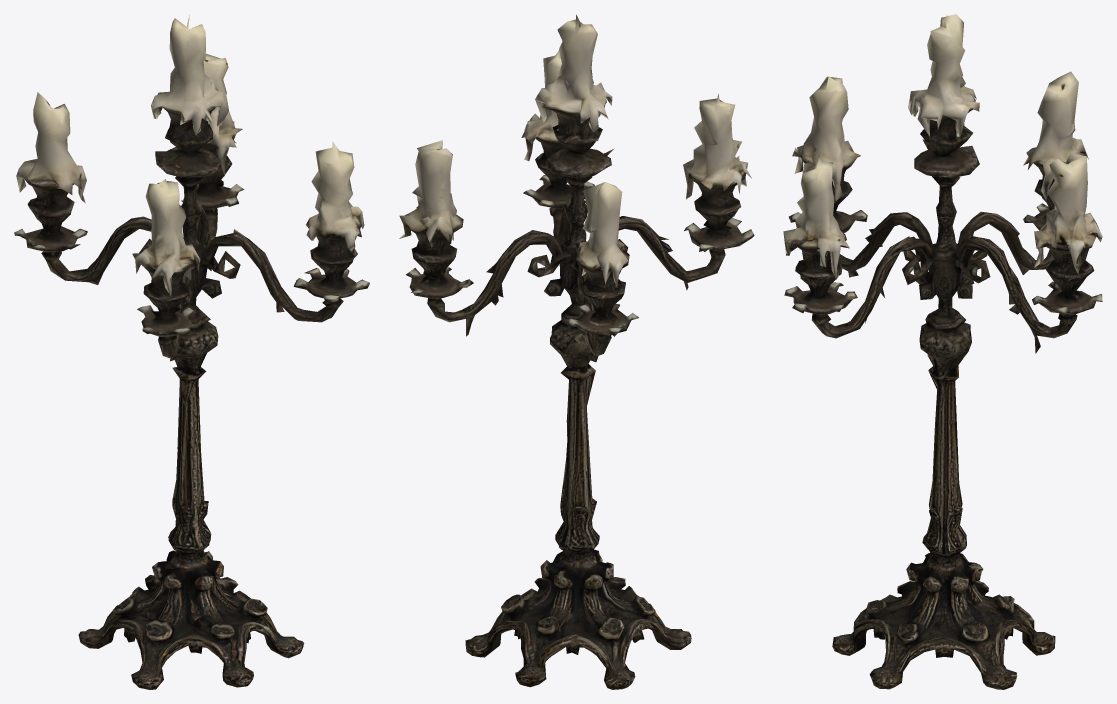
Rendered from candelabra.glb.
3 views of the same model, side by side, from view 1: azimuth 30°, elevation 25°; view 2: azimuth 150°, elevation 25°; view 3: azimuth 270°, elevation 25° (orthographic).
Visible parts, largest first — view 1: tripo_node_e17b6f26-e968-4fce-bab2-e896b788cb1c; view 2: tripo_node_e17b6f26-e968-4fce-bab2-e896b788cb1c; view 3: tripo_node_e17b6f26-e968-4fce-bab2-e896b788cb1c.
Part boxes in pixels (x1,y1,x2,y2): tripo_node_e17b6f26-e968-4fce-bab2-e896b788cb1c: (14, 15, 369, 689); tripo_node_e17b6f26-e968-4fce-bab2-e896b788cb1c: (399, 14, 754, 689); tripo_node_e17b6f26-e968-4fce-bab2-e896b788cb1c: (783, 14, 1102, 689).
Size of the model in its own units: 0.3733 by 1 by 0.4529.
1 material, 1 textured.
